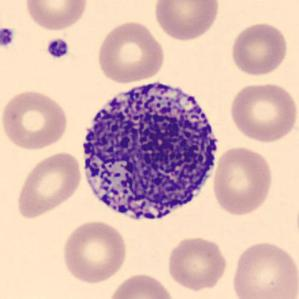Basophil: (74, 69, 227, 232)
Platelets: (44, 37, 70, 60), (0, 25, 16, 49)
RBC: (14, 149, 84, 219), (210, 144, 275, 218), (59, 217, 129, 285), (95, 19, 167, 85), (0, 87, 71, 152), (228, 80, 298, 143), (229, 238, 298, 299), (165, 234, 229, 292), (228, 20, 290, 76), (151, 0, 222, 42), (22, 0, 90, 32), (106, 271, 177, 299)
